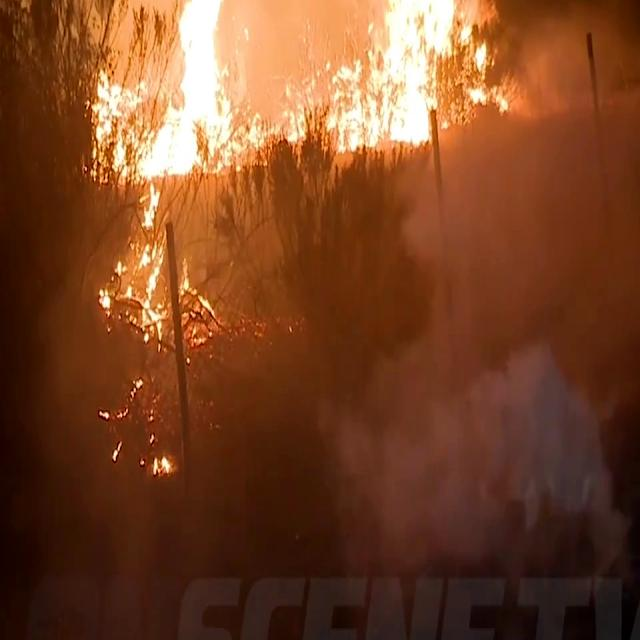fire: (103, 0, 232, 187), (332, 0, 502, 140)
